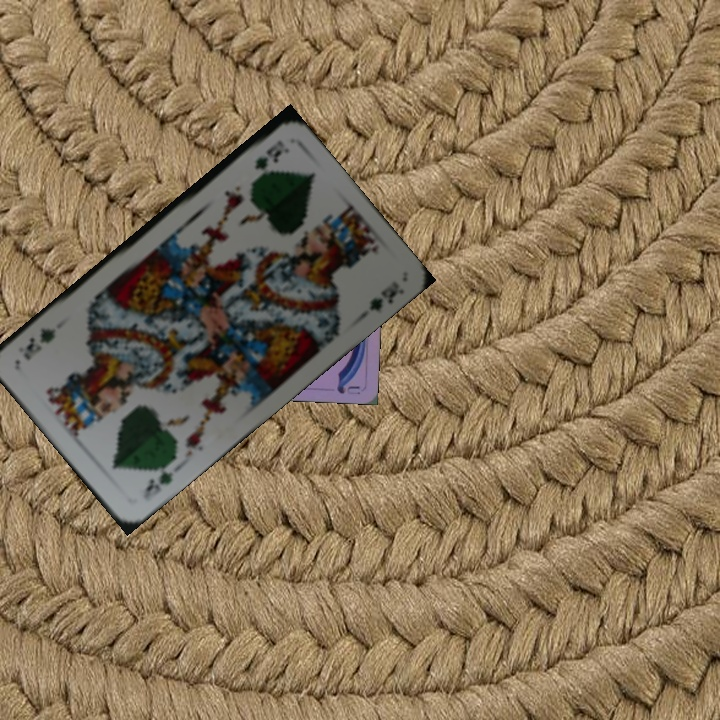GK: (139, 457, 176, 504), (250, 136, 290, 173)
